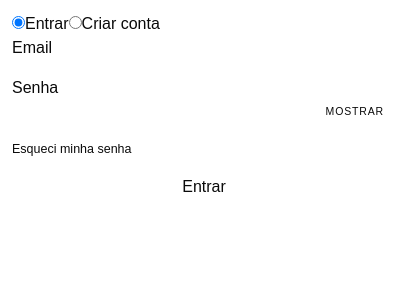
LoginForm — modo Entrar › exibe alerta de conta não confirmada e o CTA "Confirmar cadastro" em caso de 401 user-not-confirmed
The image size is (414, 291).
In the field labelled "Email": (156, 48) [52, 36, 259, 60], type "neto@email.com"
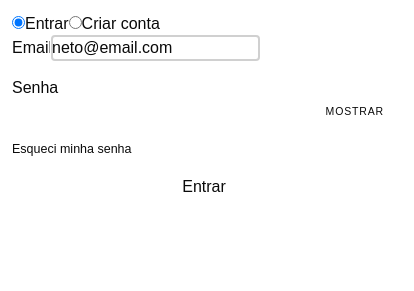
In the password field labelled "Senha": (204, 112) [12, 100, 396, 124], type "Senha123"
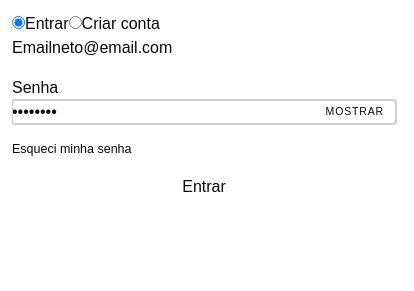
Click the button "Entrar": (204, 187) [12, 175, 396, 199]
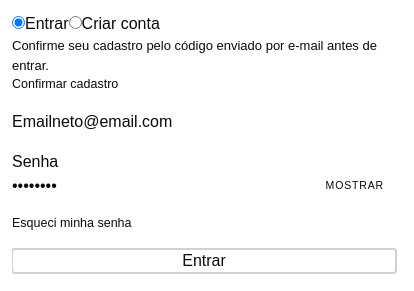
Now the text "Confirme seu cadastro pelo código enviado por e-mail antes de entrar." is shown, box [12, 36, 396, 75]
Now the button "Confirmar cadastro" is shown, box [12, 75, 118, 94]
